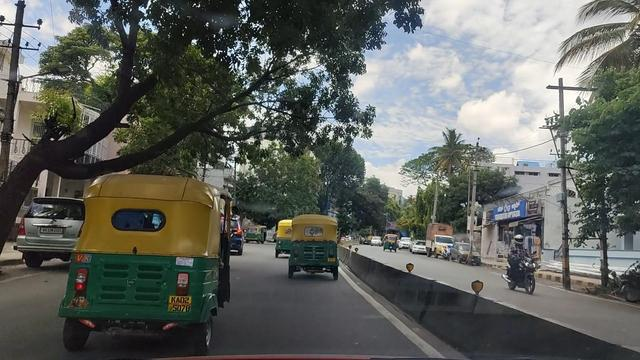LMV: (84, 174, 237, 352), (282, 214, 344, 283), (27, 200, 74, 258)
